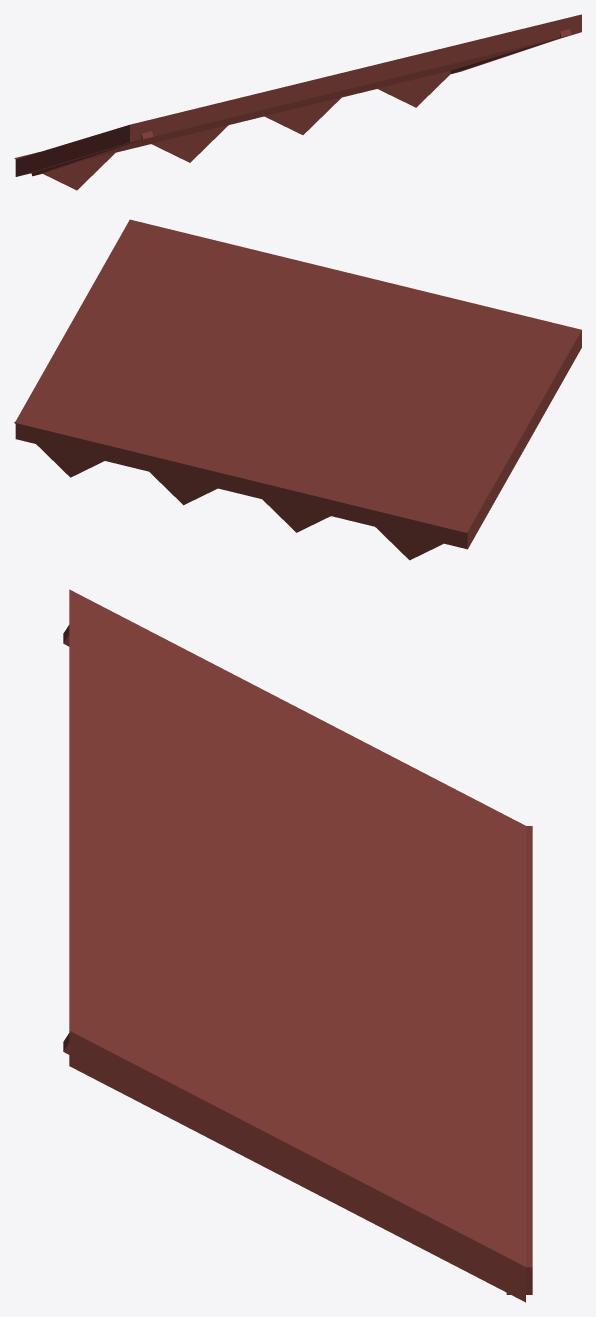
The model's file is awning_w8.fbx.
The picture shows the model from 3 angles, top to bottom: view 1: azimuth 30°, elevation 25°; view 2: azimuth 150°, elevation 25°; view 3: azimuth 270°, elevation 25°; orthographic projection. The views are drawn at different scales.
Visible parts, largest first — view 1: awning_w8; view 2: awning_w8; view 3: awning_w8.
Boxes of the visible parts, <box> form: awning_w8: <box>14,14,581,190</box>; awning_w8: <box>14,219,581,560</box>; awning_w8: <box>63,589,532,1302</box>.
Bounding box in the file's own units: 800 × 270 × 360.
